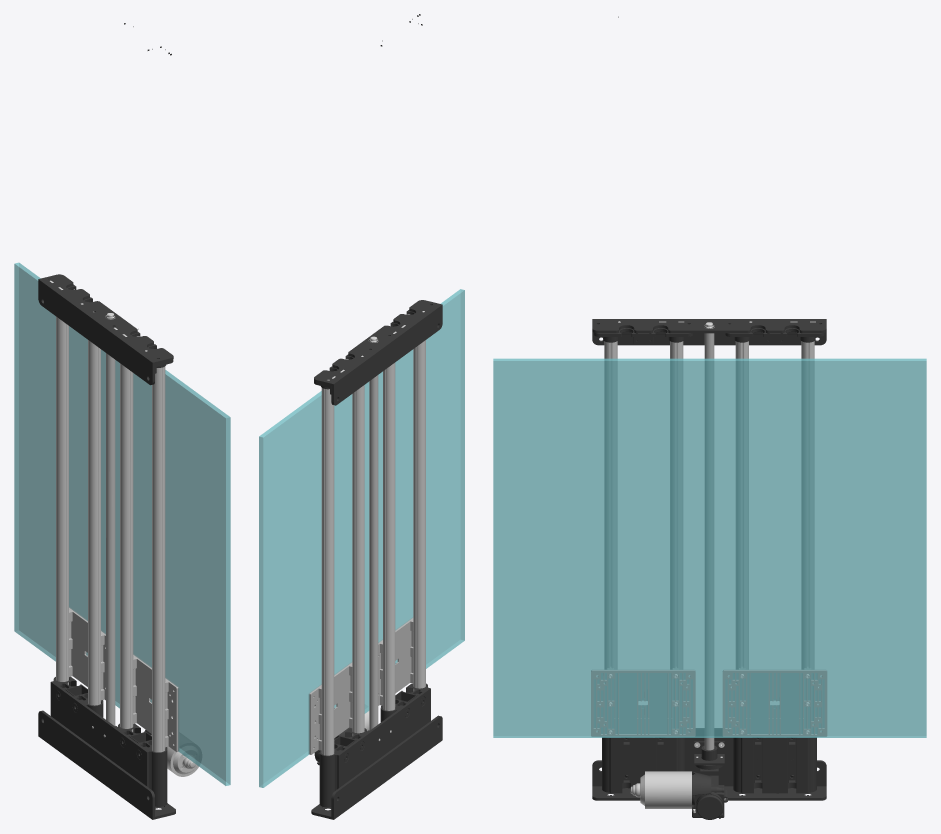
File: 4-Rail Motorlift – Single Motor.glb
3 views of the same model, side by side, from view 1: azimuth 30°, elevation 25°; view 2: azimuth 150°, elevation 25°; view 3: azimuth 270°, elevation 25° (orthographic). The views are drawn at different scales.
Parts seen in each view (by area): view 1: Cube, obj12, obj13.001, obj13, obj15.001, obj17, Quadrado1, Quadrado1.001, obj7.001, MOTOR 1.001, obj7; view 2: Cube, obj12, obj13.001, obj15.001, obj13, obj17, Quadrado1.001, Quadrado1, obj7, obj7.001; view 3: Cube, obj12, Quadrado1.001, Quadrado1, obj13.001, obj7, obj15.001, obj7.001, obj13, MOTOR 1.001, obj4.001, MOTOR 1 (+1 smaller).
Boxes of the visible parts, x1,y1,x2,y2 form: Cube: [14, 262, 230, 785]; obj12: [56, 316, 165, 752]; obj13.001: [38, 274, 173, 385]; obj13: [38, 710, 175, 819]; obj15.001: [106, 318, 115, 726]; obj17: [50, 681, 149, 787]; Quadrado1: [133, 654, 179, 751]; Quadrado1.001: [69, 607, 105, 700]; obj7.001: [117, 723, 167, 806]; MOTOR 1.001: [151, 733, 201, 776]; obj7: [53, 676, 103, 717]; Cube: [259, 289, 464, 787]; obj12: [321, 340, 425, 755]; obj13.001: [314, 300, 442, 405]; obj15.001: [369, 341, 378, 730]; obj13: [311, 715, 442, 819]; obj17: [336, 688, 430, 789]; Quadrado1.001: [308, 662, 352, 754]; Quadrado1: [378, 617, 413, 705]; obj7: [319, 728, 367, 807]; obj7.001: [380, 683, 428, 722]; Cube: [493, 358, 926, 737]; obj12: [604, 341, 814, 682]; Quadrado1.001: [722, 667, 827, 736]; Quadrado1: [591, 667, 695, 736]; obj13.001: [592, 319, 826, 345]; obj7: [733, 737, 816, 793]; obj15.001: [704, 327, 714, 750]; obj7.001: [602, 737, 685, 793]; obj13: [592, 760, 826, 800]; MOTOR 1.001: [630, 771, 691, 808]; obj4.001: [593, 323, 824, 343]; MOTOR 1: [692, 771, 727, 819].
Bounding box in the file's own units: 13.49 × 130 × 65.4.
